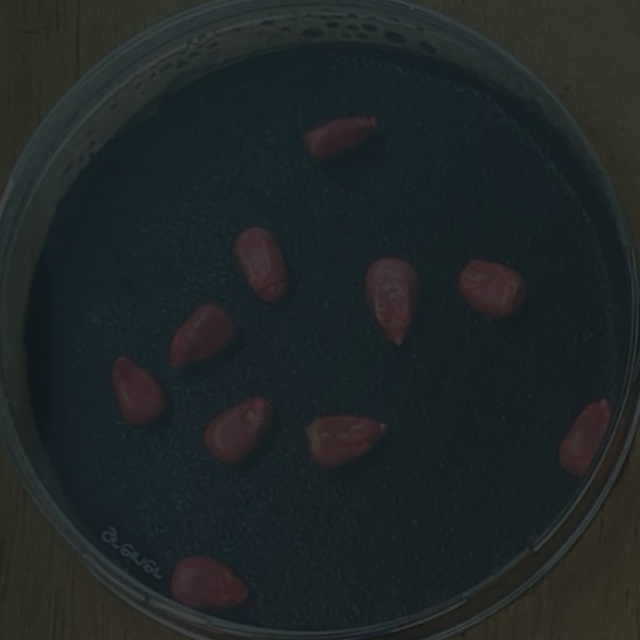Zea mays: (357, 250, 428, 357), (162, 547, 257, 624), (298, 406, 398, 478), (197, 389, 279, 473), (161, 294, 245, 376), (450, 250, 534, 330), (552, 390, 620, 483), (227, 219, 295, 312), (103, 347, 174, 436), (294, 106, 387, 173)
